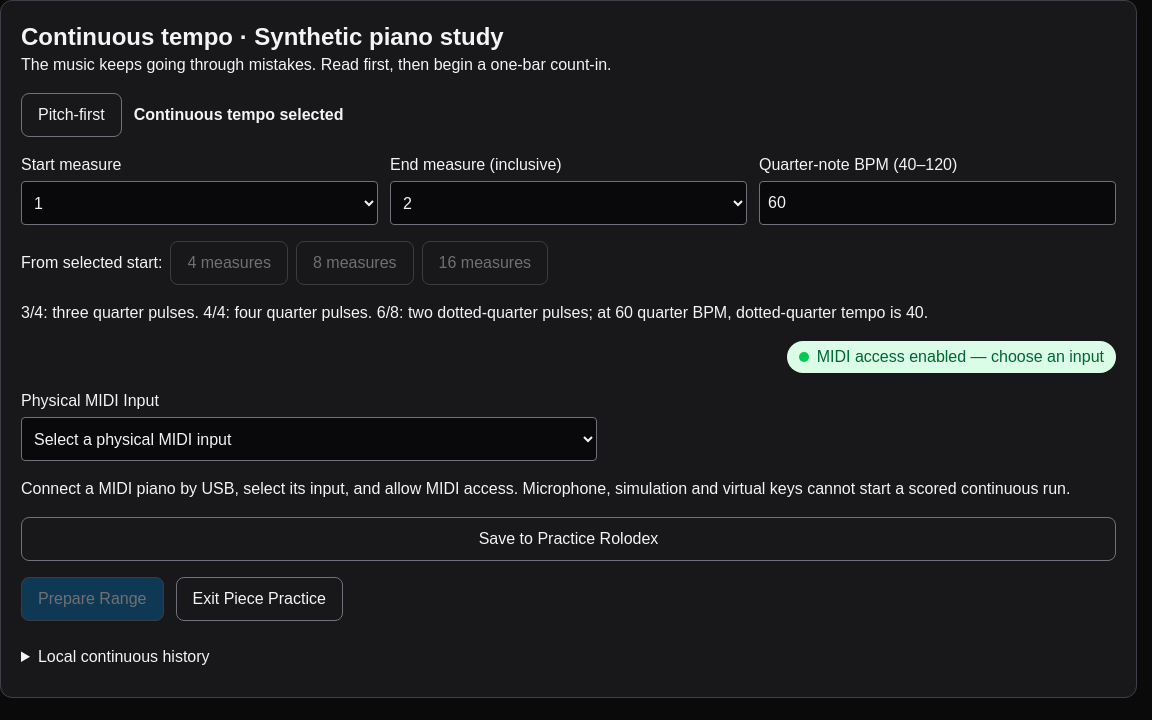
Test: continuous workspace and native ownership boundary › reports an ineligible range before attempting persistence or audio
Select "Test physical piano · piano" in the dropdown labelled "Physical MIDI Input" at (309, 439), box top-left (21, 417), bottom-right (597, 461)
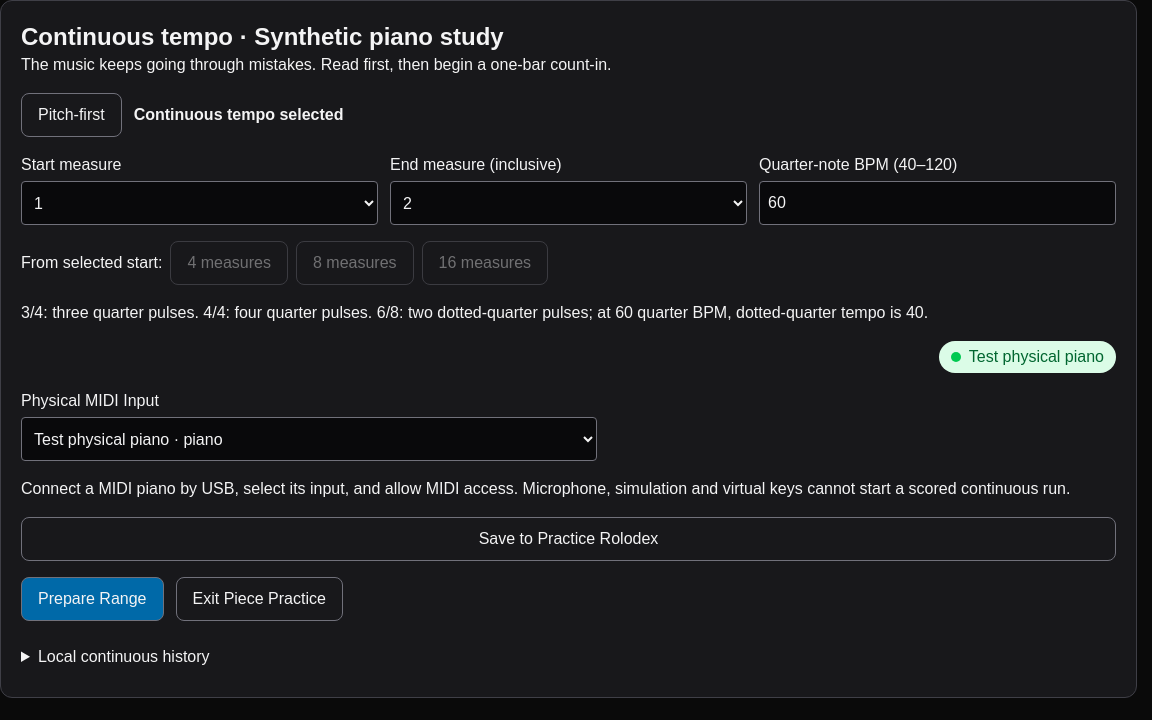
Click the button "Prepare Range" at (92, 599), box top-left (21, 577), bottom-right (164, 621)
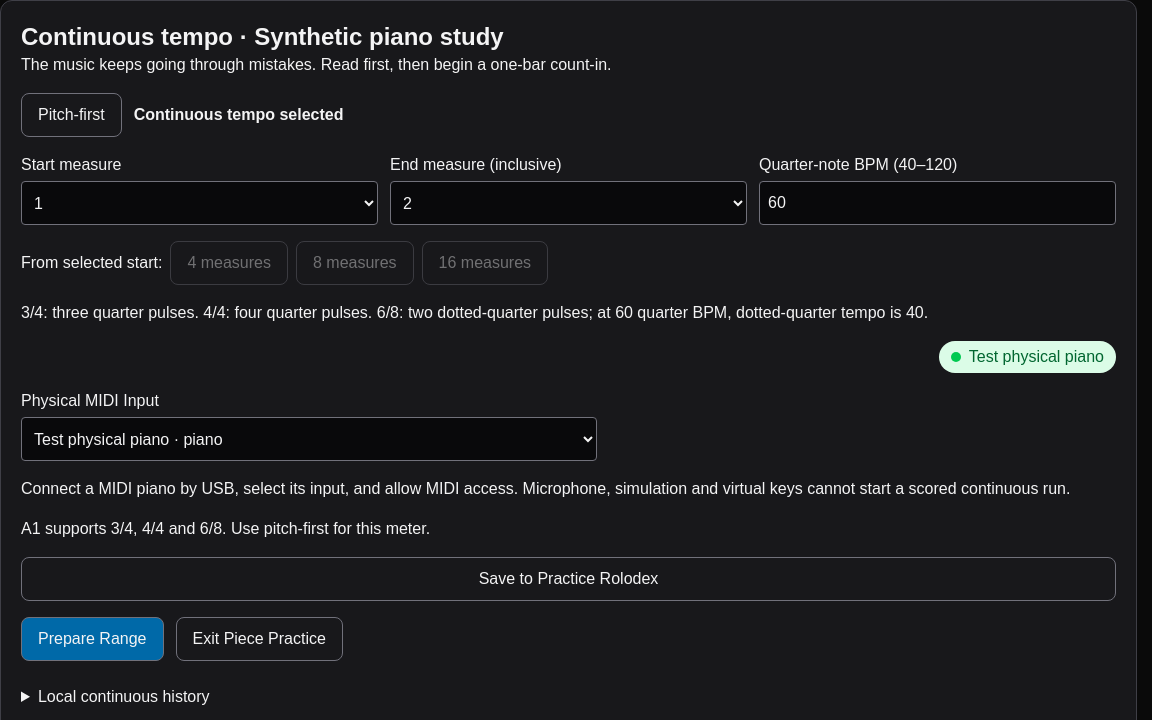
Expected: the message shows "3/4, 4/4 and 6/8", top-left (21, 520), bottom-right (430, 537)
